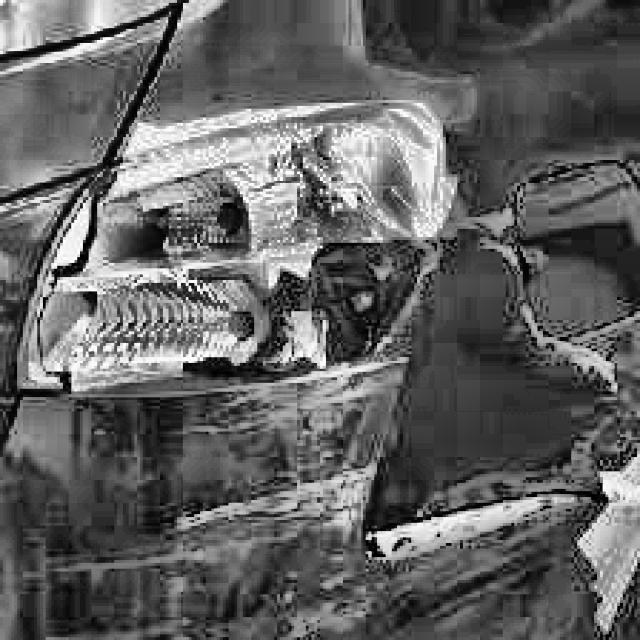head_lamp: (56, 126, 422, 376)
